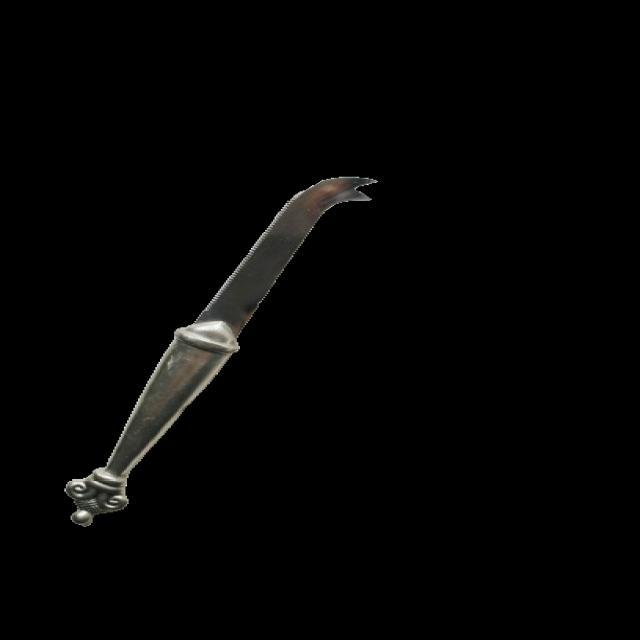knife: (65, 175, 390, 523)
